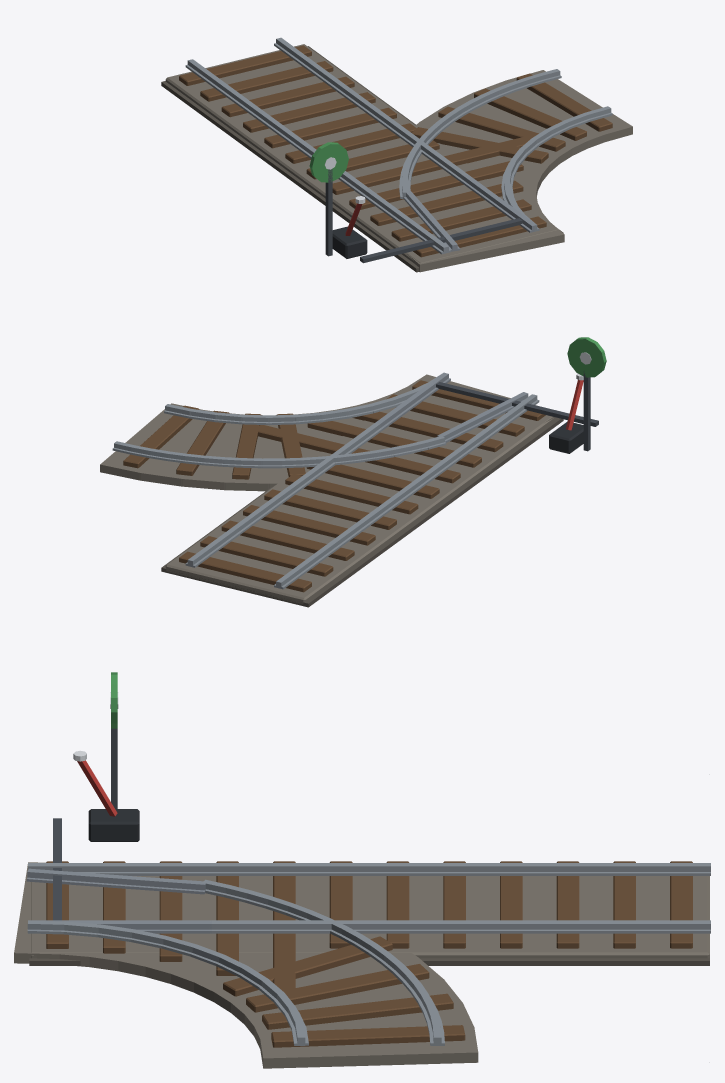
The model's file is rail_aiguillage_d_droit.glb.
3 views of the same model, one above another, from view 1: azimuth 30°, elevation 25°; view 2: azimuth 150°, elevation 25°; view 3: azimuth 270°, elevation 25° (orthographic). The views are drawn at different scales.
Visible parts, largest first — view 1: rail_ballast.016, rail_traverse.018, rail_rail.018, rail_ballast_sombre.010, rail_acier_sombre.008, rail_acier.008, rail_vert.004, rail_fonte.008; view 2: rail_ballast.016, rail_traverse.018, rail_rail.018, rail_ballast_sombre.010, rail_acier.008, rail_acier_sombre.008, rail_vert.004, rail_fonte.008; view 3: rail_ballast.016, rail_traverse.018, rail_rail.018, rail_acier.008, rail_ballast_sombre.010, rail_fonte.008, rail_acier_sombre.008.
Boxes of the visible parts, <box> form: rail_ballast.016: <box>165,44,632,272</box>; rail_traverse.018: <box>179,45,612,257</box>; rail_rail.018: <box>185,37,612,254</box>; rail_ballast_sombre.010: <box>161,46,563,272</box>; rail_acier_sombre.008: <box>325,169,522,263</box>; rail_acier.008: <box>403,175,538,251</box>; rail_vert.004: <box>309,142,348,182</box>; rail_fonte.008: <box>332,226,367,258</box>; rail_ballast.016: <box>100,374,557,604</box>; rail_traverse.018: <box>123,380,545,592</box>; rail_rail.018: <box>112,373,539,589</box>; rail_ballast_sombre.010: <box>161,418,563,607</box>; rail_acier.008: <box>375,372,528,442</box>; rail_acier_sombre.008: <box>436,371,598,451</box>; rail_vert.004: <box>567,337,606,377</box>; rail_fonte.008: <box>549,421,583,453</box>; rail_ballast.016: <box>14,862,709,1068</box>; rail_traverse.018: <box>46,861,692,1047</box>; rail_rail.018: <box>27,863,710,1045</box>; rail_acier.008: <box>26,868,211,933</box>; rail_ballast_sombre.010: <box>29,957,709,965</box>; rail_fonte.008: <box>88,809,139,841</box>; rail_acier_sombre.008: <box>53,728,117,920</box>.
Size of the model in its own units: 3.07 by 0.777 by 3.07.
